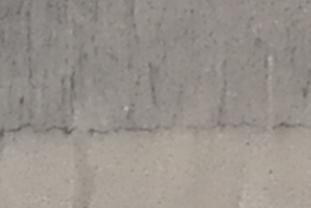fissura: (2, 98, 302, 149)
